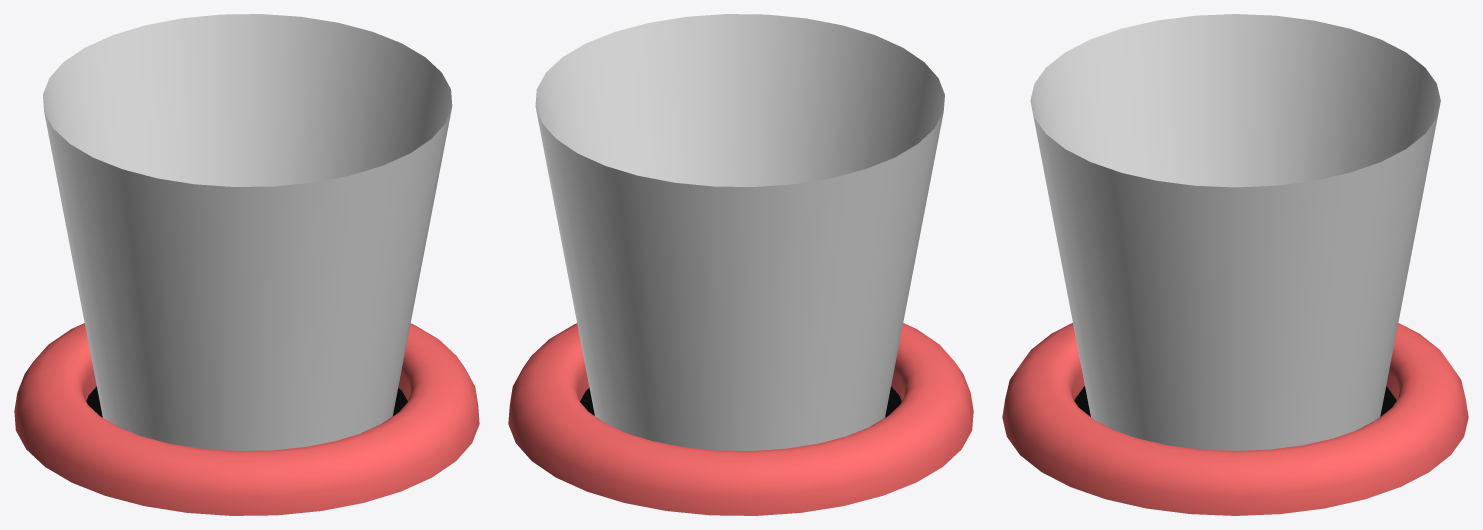
Rendered from SM_BubbleActivator.fbx.
The picture shows the model from 3 angles, left to right: view 1: azimuth 30°, elevation 25°; view 2: azimuth 150°, elevation 25°; view 3: azimuth 270°, elevation 25°; orthographic projection.
Visible parts, largest first — view 1: Activator_light, SM_BubleActivator; view 2: Activator_light, SM_BubleActivator; view 3: Activator_light, SM_BubleActivator.
Part boxes in pixels (left/top/right/bottom): Activator_light: left=43, top=14, right=452, bottom=450; SM_BubleActivator: left=14, top=323, right=479, bottom=515; Activator_light: left=535, top=14, right=944, bottom=450; SM_BubleActivator: left=508, top=323, right=973, bottom=515; Activator_light: left=1030, top=14, right=1440, bottom=450; SM_BubleActivator: left=1002, top=323, right=1468, bottom=515.
Bounding box in the file's own units: 100 × 75 × 100.
